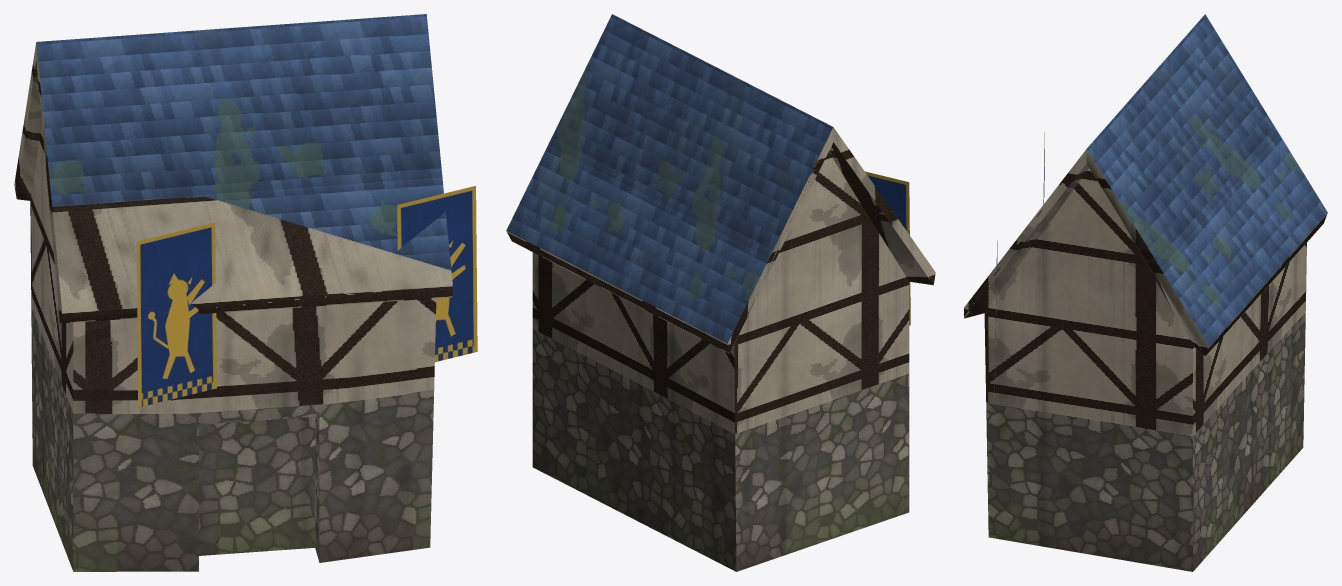
Rendered from house_03_card.glb.
3 views of the same model, side by side, from view 1: azimuth 30°, elevation 25°; view 2: azimuth 150°, elevation 25°; view 3: azimuth 270°, elevation 25° (orthographic). The views are drawn at different scales.
Visible parts, largest first — view 1: house_03_game_card; view 2: house_03_game_card; view 3: house_03_game_card.
Boxes of the visible parts, box(x1,y1,x2,y2) form: house_03_game_card: box(14, 14, 477, 571); house_03_game_card: box(506, 14, 935, 571); house_03_game_card: box(964, 14, 1327, 571).
Size of the model in its own units: 7.4 by 8.13 by 6.52.
1 material, 1 textured.
